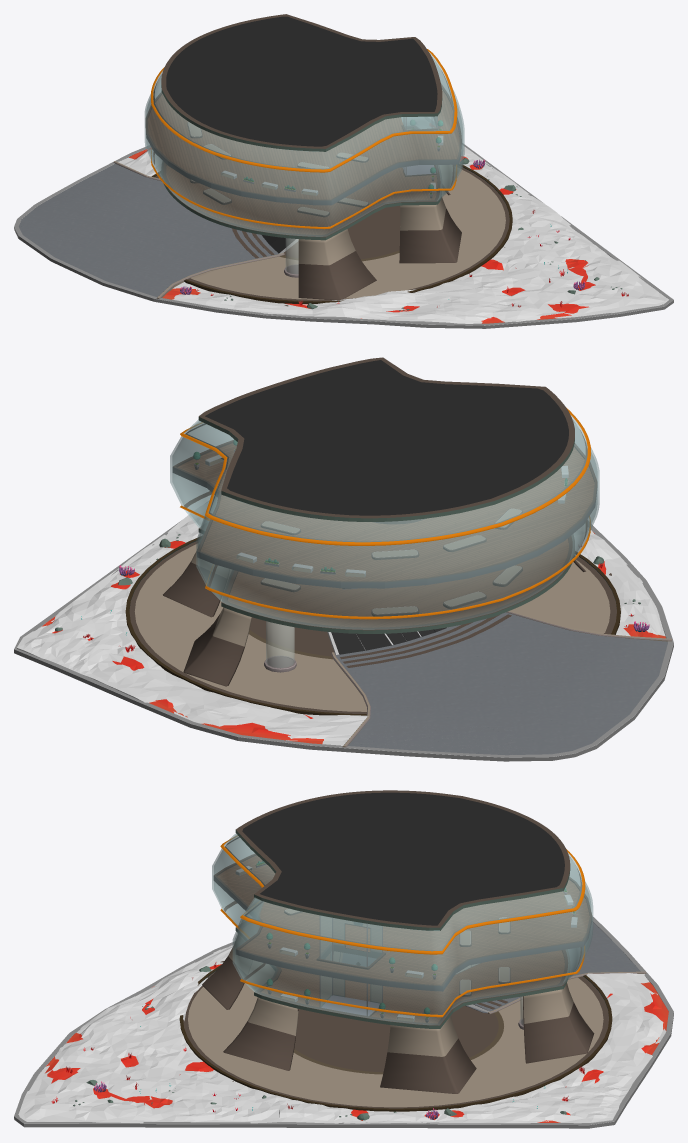
File: shell.glb
3 views of the same model, one above another, from view 1: azimuth 30°, elevation 25°; view 2: azimuth 150°, elevation 25°; view 3: azimuth 270°, elevation 25° (orthographic). The views are drawn at different scales.
Visible parts, largest first — view 1: TheShell_Isle.001, TheShell_Isle.002; view 2: TheShell_Isle.001, TheShell_Isle.002; view 3: TheShell_Isle.001, TheShell_Isle.002.
Boxes of the visible parts, bbox=[...] form: TheShell_Isle.001: bbox=[14, 14, 673, 328]; TheShell_Isle.002: bbox=[118, 145, 668, 323]; TheShell_Isle.001: bbox=[14, 357, 673, 761]; TheShell_Isle.002: bbox=[17, 502, 665, 745]; TheShell_Isle.001: bbox=[14, 790, 673, 1128]; TheShell_Isle.002: bbox=[18, 945, 666, 1123].
Size of what is drawn, in the model's own units: 78.92 by 25.7 by 95.01.
9 materials, 8 textured.
